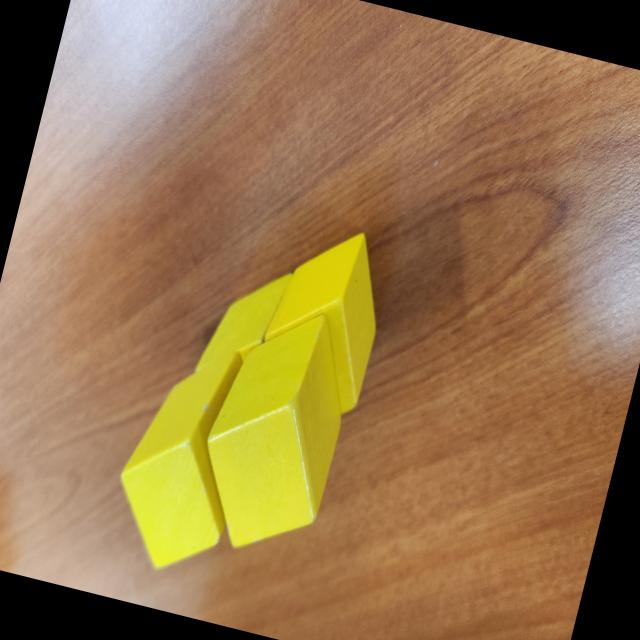yellow: (182, 292, 367, 567), (99, 330, 268, 585), (249, 214, 400, 420), (194, 256, 292, 392)
